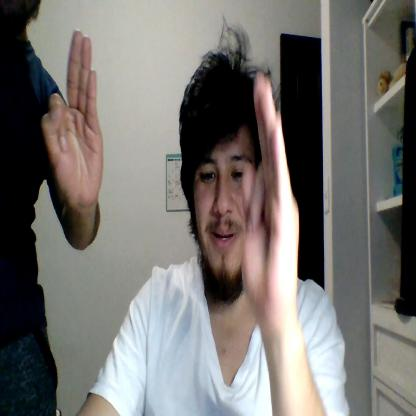F: (241, 72, 299, 317), (42, 29, 104, 209)
